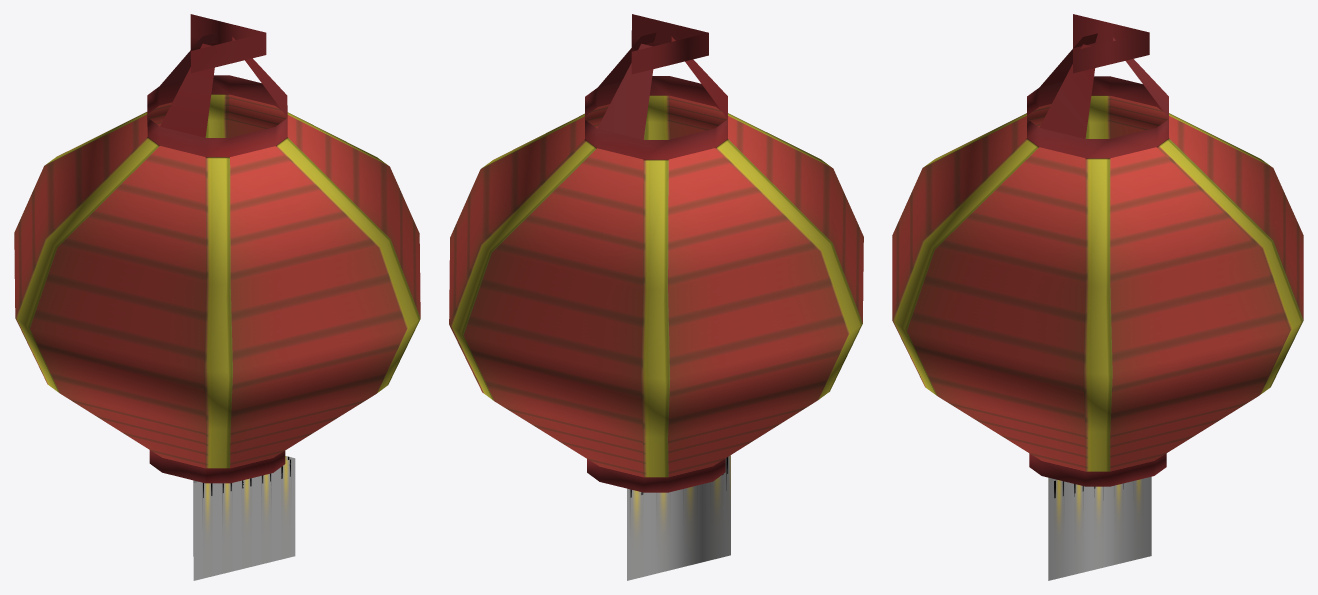
Rendered from Lamp04_Art.fbx.
The picture shows the model from 3 angles, left to right: view 1: azimuth 30°, elevation 25°; view 2: azimuth 150°, elevation 25°; view 3: azimuth 270°, elevation 25°; orthographic projection. The views are drawn at different scales.
Parts seen in each view (by area): view 1: Lamp04_ARt; view 2: Lamp04_ARt; view 3: Lamp04_ARt.
Boxes of the visible parts, x1,y1,x2,y2 form: Lamp04_ARt: [14, 14, 420, 580]; Lamp04_ARt: [449, 14, 863, 580]; Lamp04_ARt: [892, 14, 1303, 580].
Bounding box in the file's own units: 1.4 × 1.78 × 1.27.
